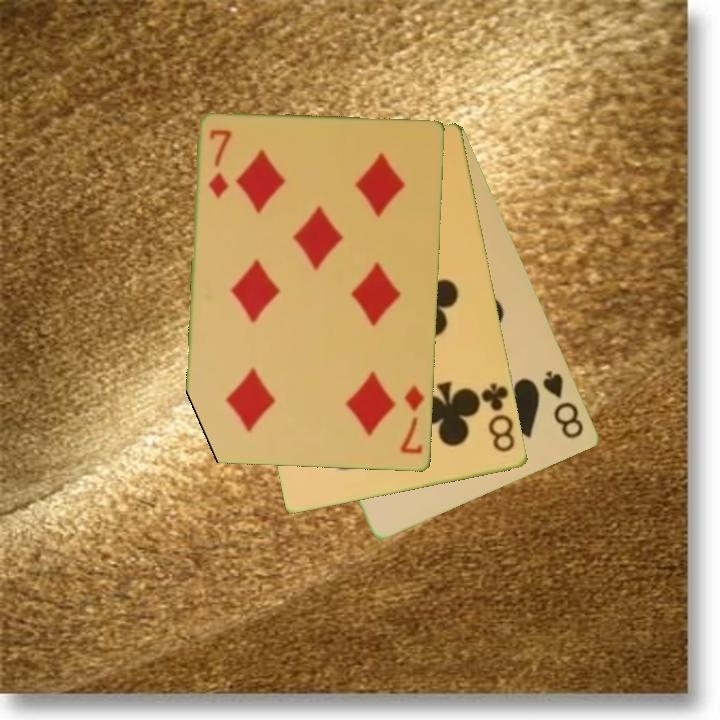7d: (205, 126, 235, 202), (397, 382, 427, 457)
8c: (478, 379, 519, 456)
8s: (539, 367, 587, 442)
